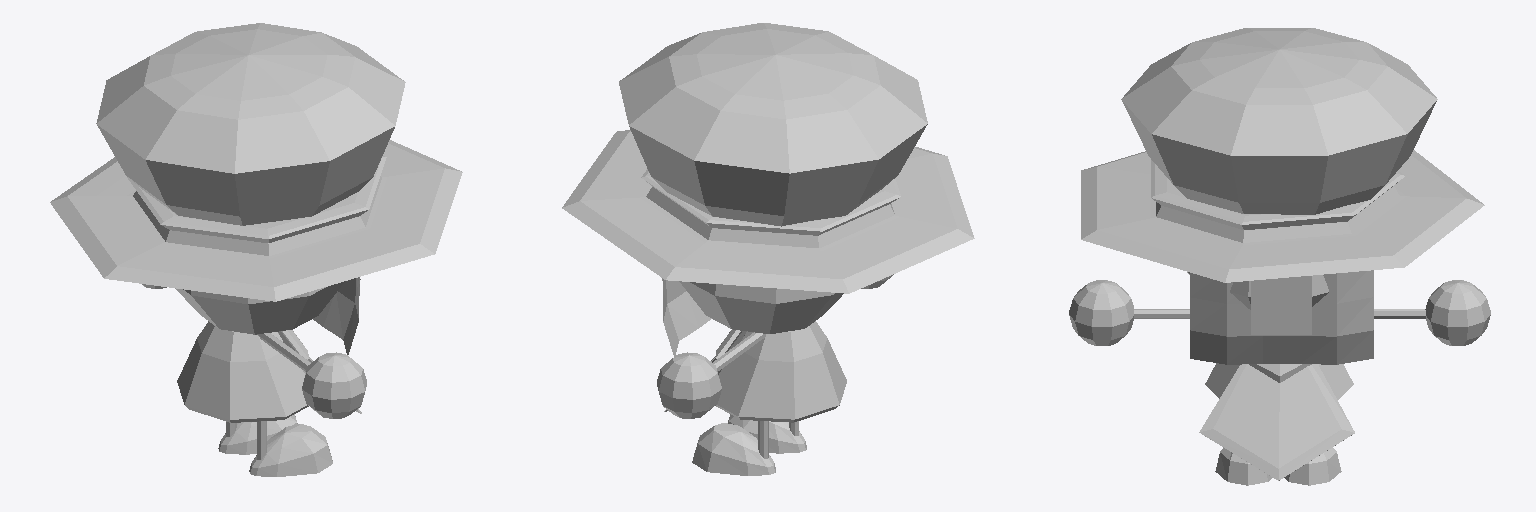
File: super the blender 2.obj
3 renders of one model, left to right at view 1: azimuth 30°, elevation 25°; view 2: azimuth 150°, elevation 25°; view 3: azimuth 270°, elevation 25°, orthographic.
Parts seen in each view (by area): view 1: Cylinder, Cylinder.002, head, Sphere.004, Sphere.003, Plane.001, Sphere.002, Cylinder.005; view 2: Cylinder, Cylinder.002, head, Sphere.005, Sphere.002, Plane.001, Sphere.003, Cylinder.006; view 3: Cylinder, Cube, Plane.001, Plane, Sphere.005, Sphere.004, Cylinder.002, Sphere.002, Sphere.003, head, Cylinder.005.
Part boxes in pixels (x1,y1,x2,y2): Cylinder: (50,23,462,301); Cylinder.002: (177,321,308,422); head: (175,281,344,334); Sphere.004: (302,352,366,418); Sphere.003: (249,424,332,476); Plane.001: (313,277,359,354); Sphere.002: (218,414,297,454); Cylinder.005: (257,333,310,371); Cylinder: (562,23,974,293); Cylinder.002: (716,321,846,422); head: (679,281,843,333); Sphere.005: (657,352,721,418); Sphere.002: (692,423,775,475); Plane.001: (663,279,711,356); Sphere.003: (728,414,806,453); Cylinder.006: (713,332,765,370); Cylinder: (1081,28,1484,282); Cube: (1199,364,1354,480); Plane.001: (1190,270,1373,364); Plane: (1251,276,1311,334); Sphere.005: (1425,280,1490,345); Sphere.004: (1069,280,1133,345); Cylinder.002: (1205,363,1353,399); Sphere.002: (1284,447,1341,485); Sphere.003: (1215,448,1272,485); head: (1187,272,1328,309); Cylinder.005: (1134,309,1189,318).
Size of the model in its own units: 56.31 by 60.87 by 57.49.